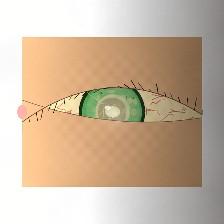corneal_ulcer: (85, 88, 141, 133)
